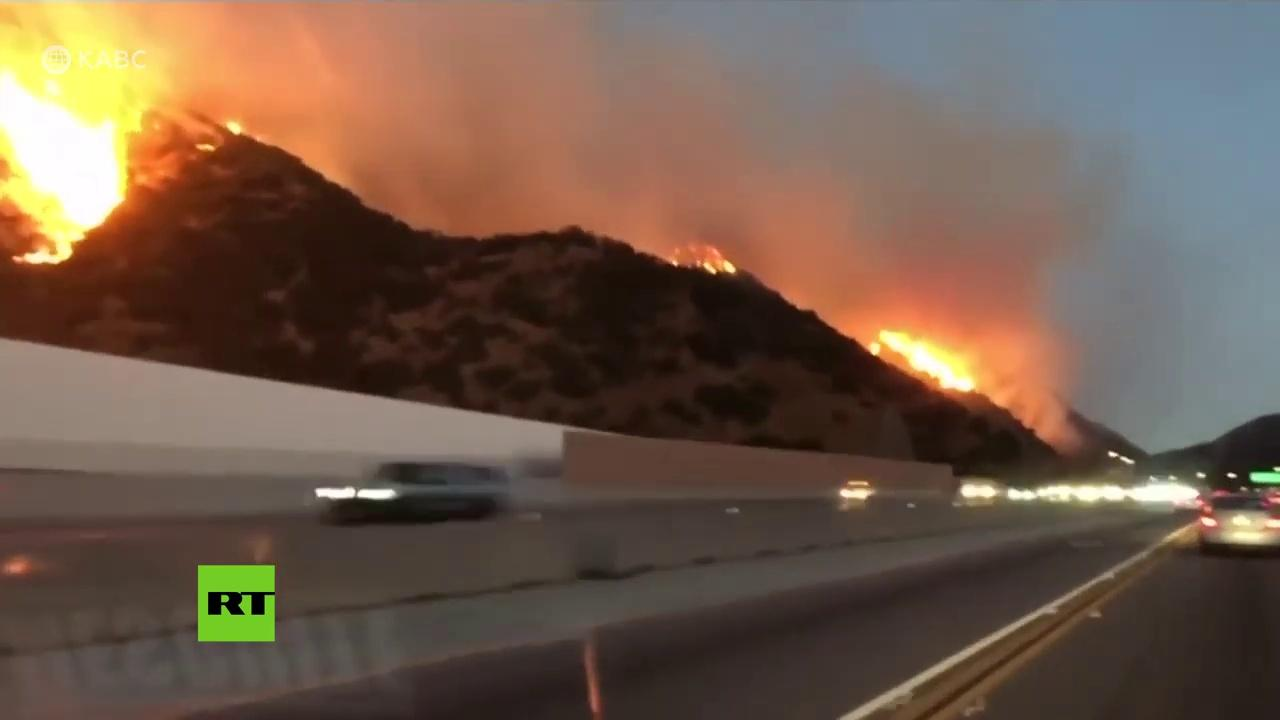Fire: (6, 14, 136, 271), (871, 326, 974, 396), (697, 245, 739, 277), (224, 117, 240, 138)
